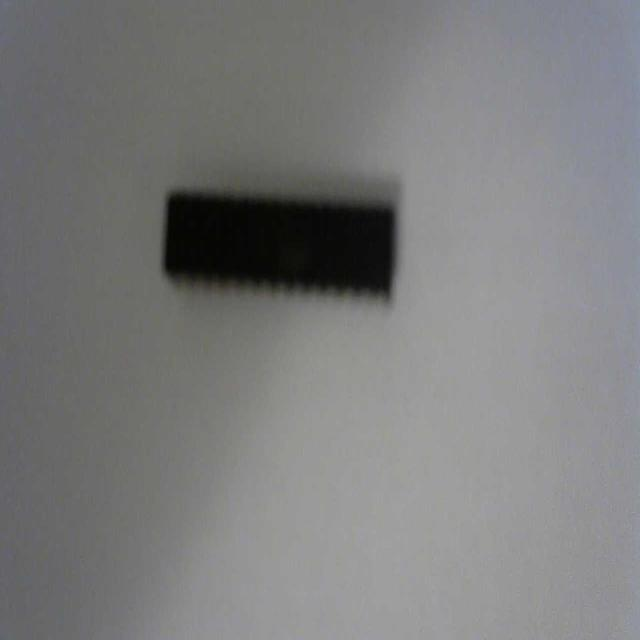atmega: (160, 182, 400, 308)
